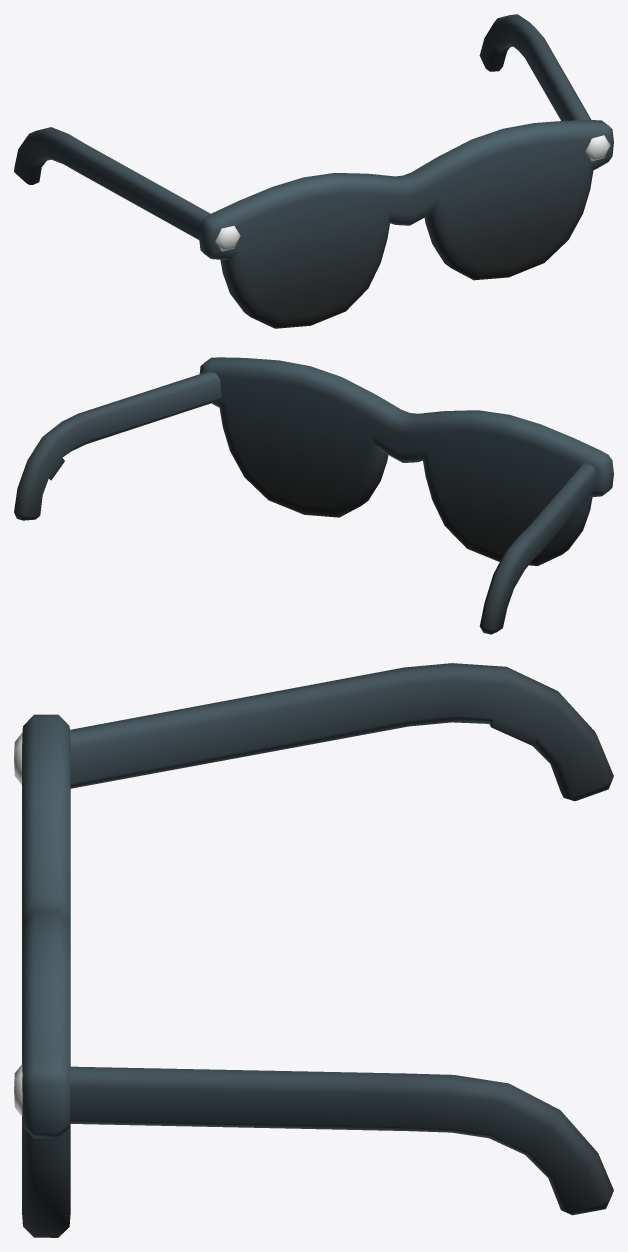
File: Glasses_18.glb
3 renders of one model, top to bottom at view 1: azimuth 30°, elevation 25°; view 2: azimuth 150°, elevation 25°; view 3: azimuth 270°, elevation 25°, orthographic. The views are drawn at different scales.
Parts seen in each view (by area): view 1: Glasses_18; view 2: Glasses_18; view 3: Glasses_18.
Part boxes in pixels (x1,y1,x2,y2): Glasses_18: (14,14,613,328); Glasses_18: (14,357,613,634); Glasses_18: (14,663,613,1237).
Bounding box in the file's own units: 0.6071 × 0.1722 × 0.3545.
Materials: 1 (1 with a texture image).
